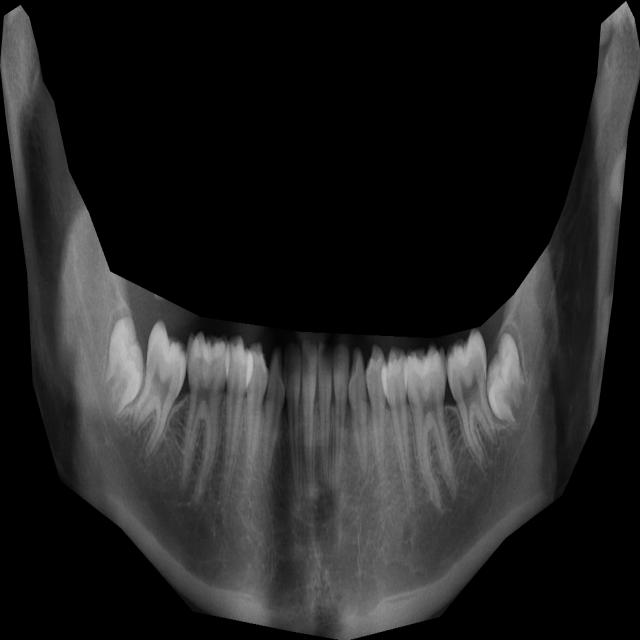mandibula: (0, 1, 640, 640)
